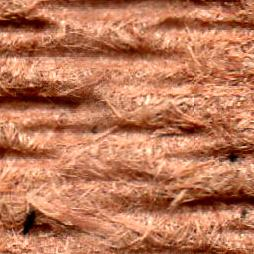egg: (24, 210, 33, 234)
